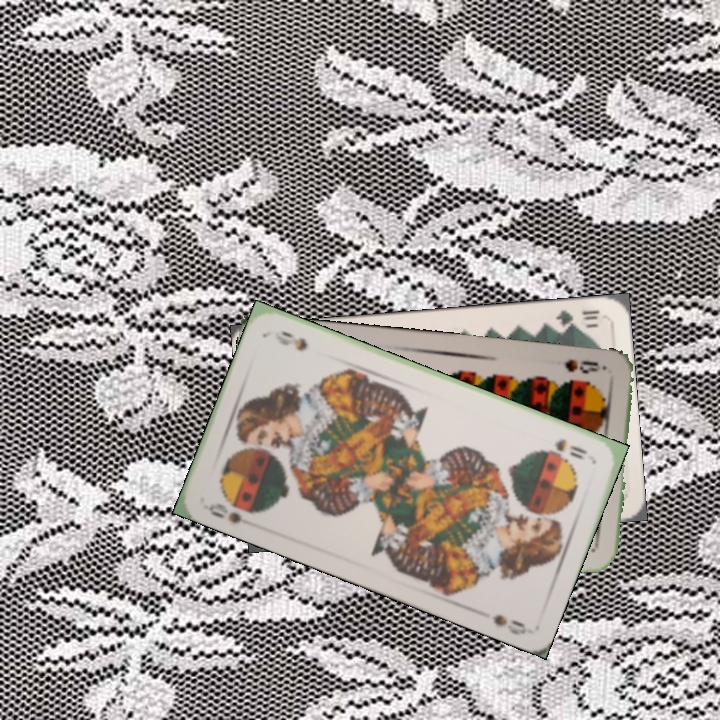G10: (551, 306, 602, 332)
S8: (561, 355, 609, 376)
SO: (550, 434, 590, 462), (204, 499, 244, 526)
